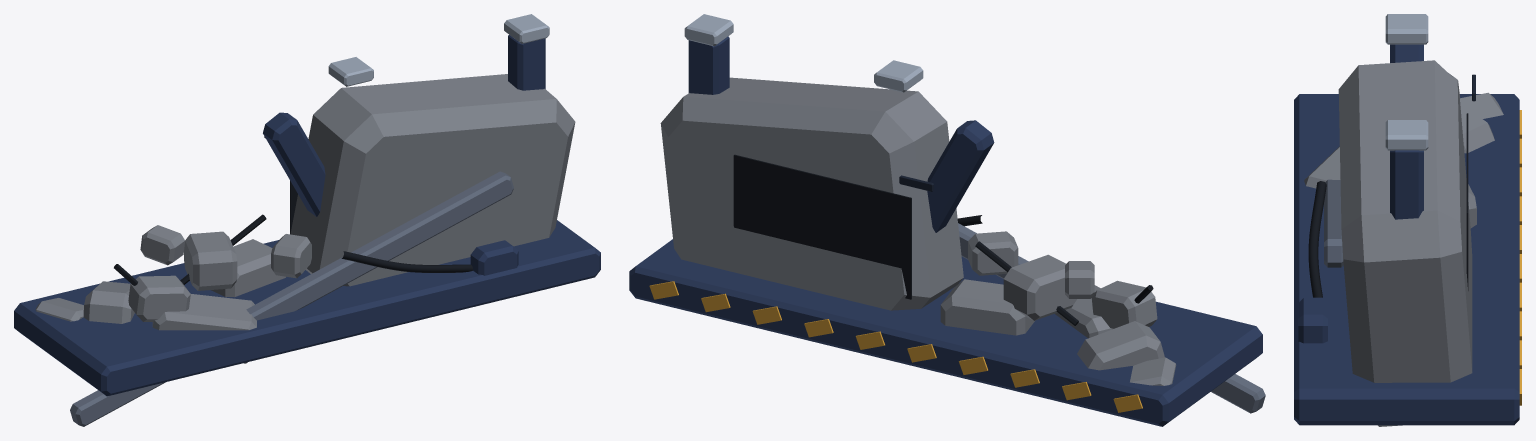
Rendered from tower_barricade_broken.glb.
3 views of the same model, side by side, from view 1: azimuth 30°, elevation 25°; view 2: azimuth 150°, elevation 25°; view 3: azimuth 270°, elevation 25° (orthographic). The views are drawn at different scales.
Parts seen in each view (by area): view 1: barricade_block_l, barricade_footing, barricade_beam_rear, barricade_post-0.3, barricade_rubble1, barricade_rubble3, barricade_rubble4, barricade_rubble0, barricade_post-1.5, barricade_rubble2, barricade_rubble6, barricade_junction (+5 smaller); view 2: barricade_block_l, barricade_footing, barricade_scorch, barricade_footing_hazard, barricade_post-0.3, barricade_rubble0, barricade_rubble3, barricade_rubble2, barricade_rubble4, barricade_post-1.5, barricade_rubble6, barricade_beam_rear (+5 smaller); view 3: barricade_block_l, barricade_footing, barricade_post-1.5, barricade_beam_rear, barricade_junction, barricade_post_cap-0.3, barricade_post_cap-1.5, barricade_loom, barricade_rubble2, barricade_footing_hazard, barricade_rubble1, barricade_rubble5 (+3 smaller).
Boxes of the visible parts, x1,y1,x2,y2 form: barricade_block_l: (290, 74, 575, 286); barricade_footing: (14, 220, 600, 396); barricade_beam_rear: (70, 171, 513, 426); barricade_post-0.3: (263, 112, 325, 216); barricade_rubble1: (152, 294, 256, 363); barricade_rubble3: (184, 231, 237, 290); barricade_rubble4: (128, 275, 190, 321); barricade_rubble0: (211, 239, 285, 297); barricade_post-1.5: (508, 35, 545, 90); barricade_rubble2: (83, 281, 134, 323); barricade_rubble6: (271, 234, 311, 278); barricade_junction: (470, 240, 518, 275); barricade_block_l: (660, 77, 963, 310); barricade_footing: (629, 239, 1262, 426); barricade_scorch: (733, 154, 911, 299); barricade_footing_hazard: (649, 281, 1142, 412); barricade_post-0.3: (927, 120, 994, 232); barricade_rubble0: (940, 279, 1034, 335); barricade_rubble3: (1003, 254, 1076, 320); barricade_rubble2: (1077, 321, 1164, 370); barricade_rubble4: (1091, 280, 1157, 329); barricade_post-1.5: (688, 36, 729, 94); barricade_rubble6: (968, 231, 1018, 275); barricade_beam_rear: (958, 223, 1265, 413); barricade_block_l: (1338, 60, 1472, 426); barricade_footing: (1294, 94, 1519, 425); barricade_post-1.5: (1390, 150, 1423, 219); barricade_beam_rear: (1324, 179, 1343, 267); barricade_junction: (1298, 297, 1327, 343); barricade_post_cap-0.3: (1385, 14, 1428, 44); barricade_post_cap-1.5: (1385, 120, 1428, 150); barricade_loom: (1308, 181, 1326, 297); barricade_rubble2: (1460, 104, 1494, 153); barricade_footing_hazard: (1519, 110, 1521, 405); barricade_rubble1: (1304, 146, 1340, 188); barricade_rubble5: (1460, 92, 1503, 118).
Size of the model in its own units: 5.18 by 2.55 by 1.6.
